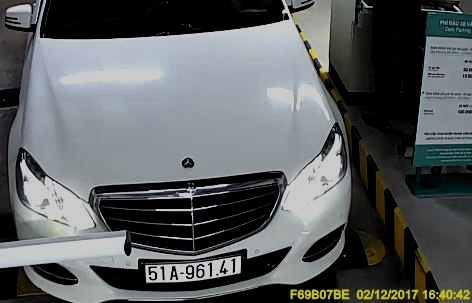plate: (142, 256, 242, 282)
